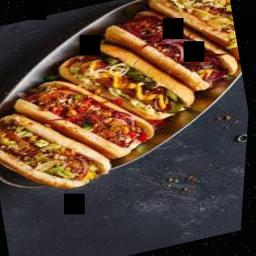hotdog: (50, 21, 210, 145), (8, 58, 170, 180), (94, 0, 248, 110), (0, 93, 120, 206), (140, 0, 240, 66)
